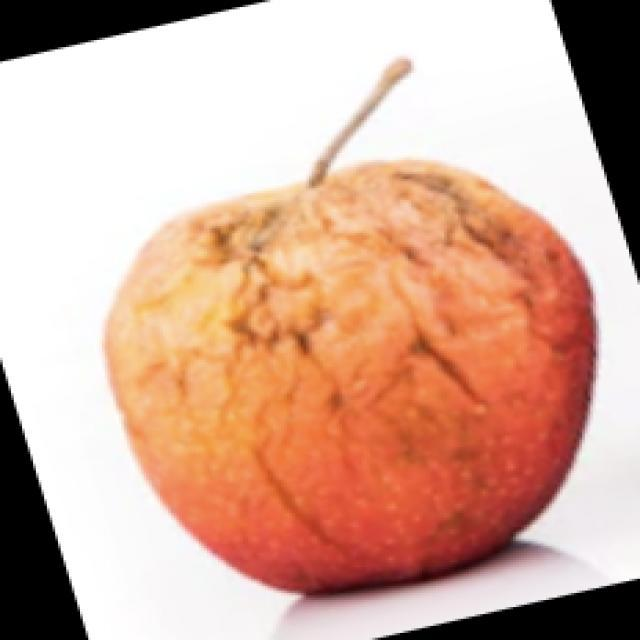Rotten: (102, 167, 615, 590)
